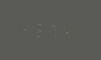four: (18, 17, 30, 38), (57, 20, 69, 41)
one: (70, 21, 82, 42)
seven: (44, 19, 56, 40)
two: (31, 18, 43, 39)
